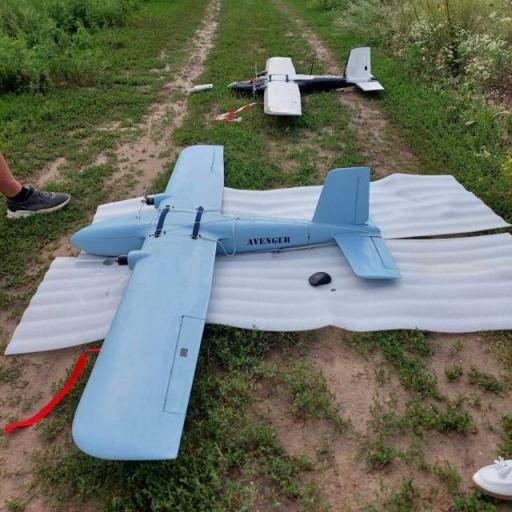uav: (70, 142, 406, 459)
